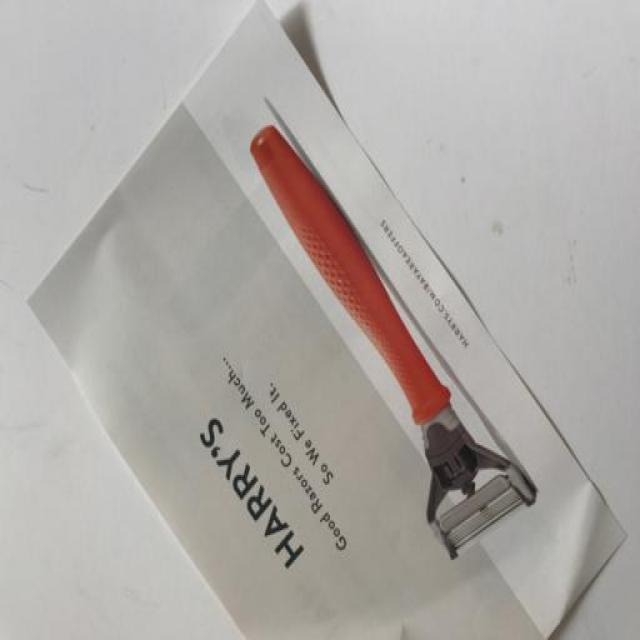paper: (34, 1, 634, 640)
